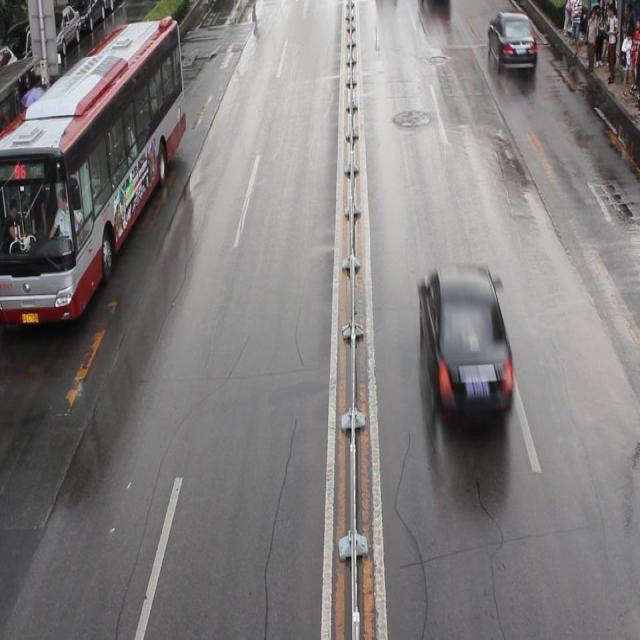car: (417, 261, 514, 420), (486, 15, 536, 67)
van: (1, 17, 186, 321)
